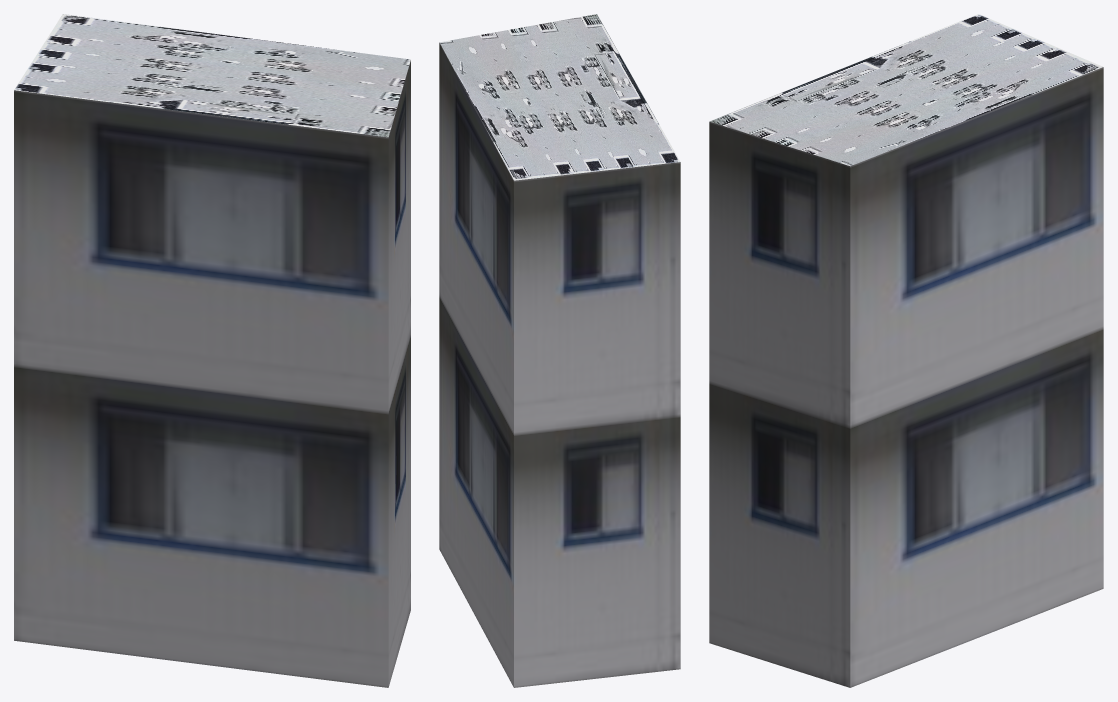
Rendered from ResTex__2388.fbx.
The picture shows the model from 3 angles, left to right: view 1: azimuth 30°, elevation 25°; view 2: azimuth 150°, elevation 25°; view 3: azimuth 270°, elevation 25°; orthographic projection. The views are drawn at different scales.
Visible parts, largest first — view 1: CityEngineMaterial_9_m, CityEngineMaterial_m; view 2: CityEngineMaterial_9_m, CityEngineMaterial_m; view 3: CityEngineMaterial_9_m, CityEngineMaterial_m.
Part boxes in pixels (x1,y1,x2,y2): CityEngineMaterial_9_m: (14, 60, 410, 687); CityEngineMaterial_m: (14, 14, 410, 137); CityEngineMaterial_9_m: (439, 42, 680, 687); CityEngineMaterial_m: (439, 14, 680, 180); CityEngineMaterial_9_m: (709, 67, 1103, 687); CityEngineMaterial_m: (710, 14, 1102, 166).
Bounding box in the file's own units: 3.76 × 6 × 4.11.
Materials: 2 (2 with a texture image).
